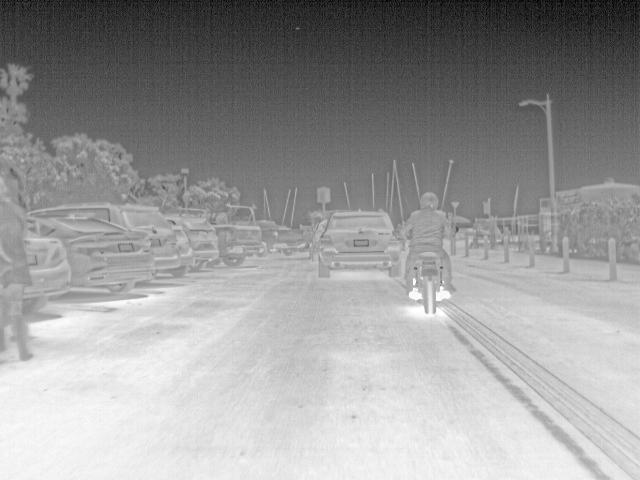car: (27, 212, 156, 292), (33, 203, 183, 271), (320, 209, 400, 277), (24, 234, 69, 312), (166, 212, 219, 272), (212, 223, 264, 269), (262, 227, 307, 251), (308, 220, 330, 262)
person: (397, 192, 456, 298), (2, 181, 35, 359)
